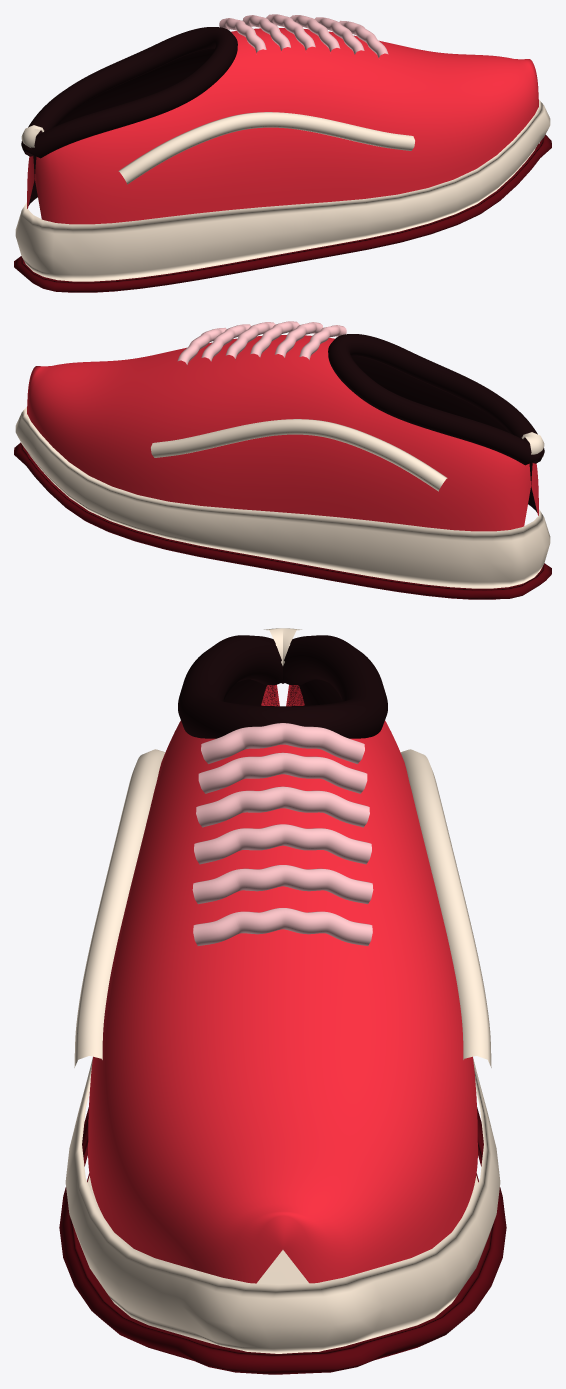
Rendered from aero-runner-coral.glb.
3 views of the same model, one above another, from view 1: azimuth 30°, elevation 25°; view 2: azimuth 150°, elevation 25°; view 3: azimuth 270°, elevation 25° (orthographic). The views are drawn at different scales.
Visible parts, largest first — view 1: upper, midsole, collar, outsole, stripe, laces, lining; view 2: upper, midsole, collar, outsole, stripe-medial, laces, lining; view 3: upper, midsole, laces, collar, outsole, stripe-medial, stripe, lining.
Boxes of the visible parts, x1,y1,x2,y2 form: upper: (27, 28, 538, 224); midsole: (15, 100, 550, 281); collar: (21, 27, 237, 158); outsole: (14, 134, 551, 292); stripe: (118, 112, 414, 184); laces: (219, 14, 388, 57); lining: (28, 48, 214, 205); upper: (27, 335, 538, 531); midsole: (15, 407, 550, 588); collar: (328, 334, 544, 465); outsole: (14, 442, 551, 599); stripe-medial: (151, 419, 447, 491); laces: (177, 321, 346, 364); lining: (351, 355, 537, 512); upper: (88, 685, 477, 1283); midsole: (65, 1057, 500, 1353); laces: (192, 723, 373, 945); collar: (178, 635, 387, 738); outsole: (59, 1107, 506, 1374); stripe-medial: (400, 749, 491, 1067); stripe: (74, 749, 165, 1067); lining: (223, 679, 342, 705).
Size of the model in its own units: 0.2892 by 0.1106 by 0.1085.
